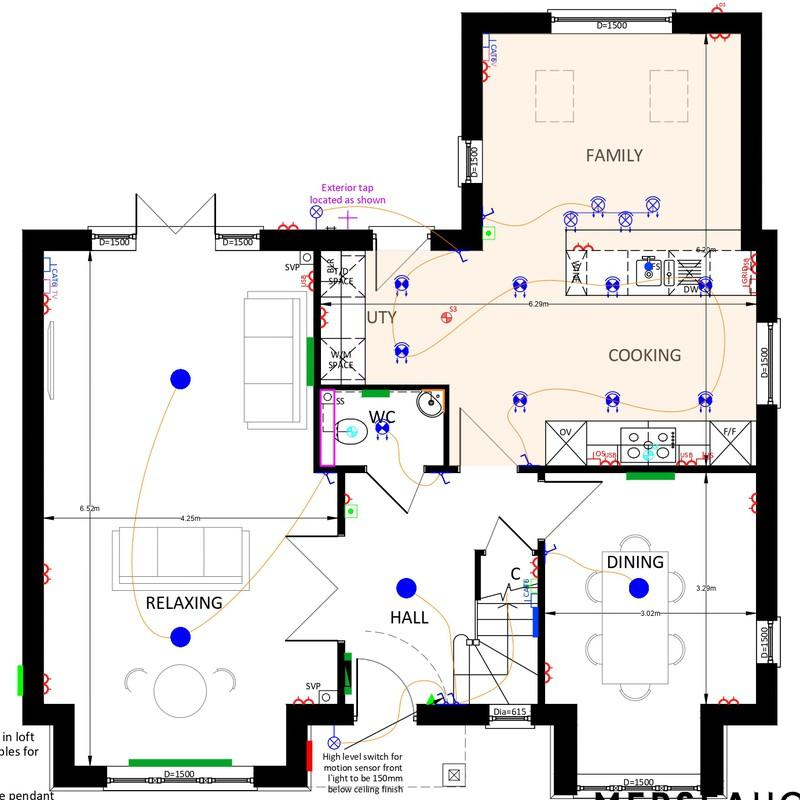BT Entry Point: (426, 694, 438, 704)
Cat 6 Data Socket: (483, 33, 496, 62), (44, 257, 57, 286), (524, 579, 537, 607)
Ceiling Mounted Continuous Extract FanWith Boost Mode Activated By Light Switch: (346, 425, 357, 437)
Ceiling Mounted Continuous Extract FanWith Local Boost Switch: (441, 306, 457, 324)
Co-Ax TV Socket: (44, 278, 57, 299), (483, 47, 496, 65)
Consumer Unit: (345, 660, 351, 687)
Double Socket: (573, 241, 593, 251), (43, 564, 53, 584), (709, 33, 730, 42), (747, 493, 756, 514), (529, 557, 538, 578), (278, 221, 298, 230), (545, 662, 553, 684), (719, 695, 738, 704), (483, 61, 491, 82), (293, 696, 314, 704), (44, 294, 52, 315), (44, 674, 52, 694), (321, 307, 328, 328)
Electric Meter Box: (307, 740, 313, 772)
External Wall Light: (328, 725, 341, 750), (310, 205, 323, 229)
Gas Meter Box: (17, 665, 23, 696)
Grid Switch: (741, 267, 756, 293)
Hob Switch: (696, 452, 713, 465)
Light Switch: (455, 250, 469, 263), (323, 473, 336, 485), (439, 473, 451, 485), (483, 208, 495, 220), (545, 544, 557, 556), (447, 692, 459, 704), (437, 692, 448, 704), (520, 454, 531, 465)
Low Energy Downlighter: (604, 391, 621, 413), (512, 276, 528, 298), (605, 276, 621, 298), (697, 276, 713, 298), (512, 391, 528, 413), (394, 275, 410, 296), (375, 418, 390, 440), (698, 391, 713, 413), (395, 342, 409, 364)
Low Energy Pendant Light: (395, 577, 418, 599), (169, 368, 191, 389), (628, 577, 649, 599), (170, 627, 191, 647)
Outside Socket: (711, 2, 726, 12)
Outside Tap: (337, 210, 357, 229)
Oven Switch: (587, 451, 604, 465)
Programmable Room Thermostat: (345, 504, 358, 517), (482, 227, 495, 240)
Radiator: (129, 759, 232, 766), (626, 472, 675, 480), (307, 337, 313, 386), (345, 653, 352, 695), (362, 390, 389, 398)
Single Socket: (345, 494, 353, 504)
Telephone Socket: (524, 579, 538, 594)
Track Light: (563, 195, 661, 232)
USB Double Socket: (300, 270, 314, 290), (743, 254, 757, 274), (601, 452, 620, 465), (676, 453, 696, 465)
Underfloor Heating Manifold: (533, 607, 538, 638)
Water Entry Position: (644, 262, 653, 271)
